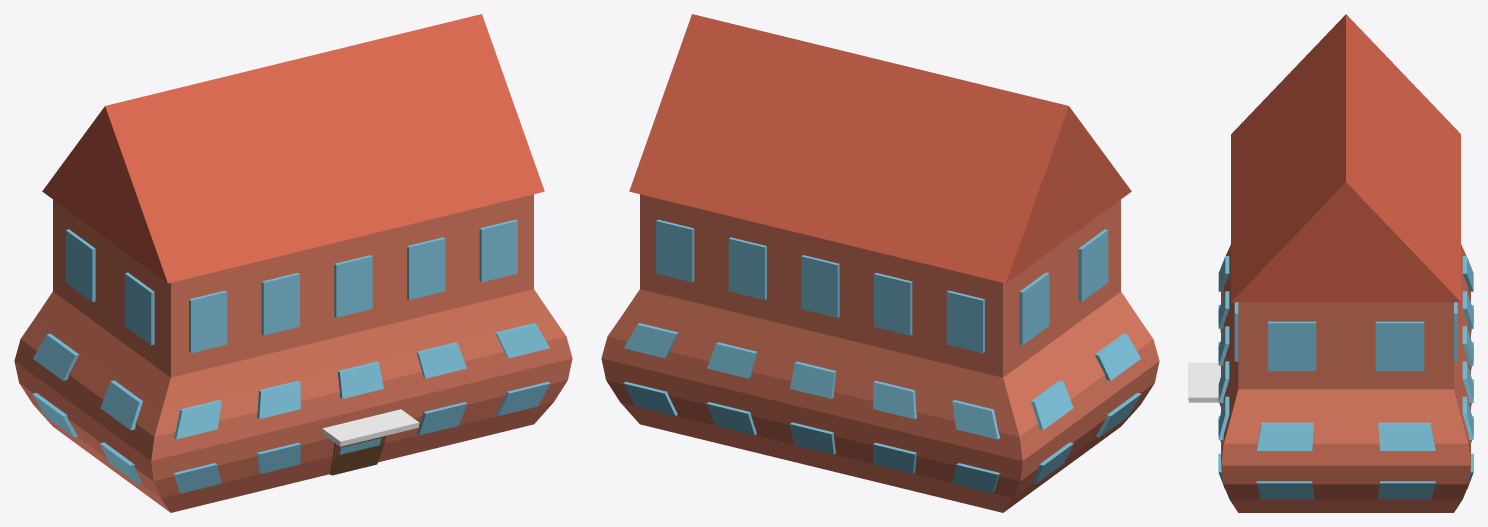
File: apartment_3.glb
3 renders of one model, left to right at view 1: azimuth 30°, elevation 25°; view 2: azimuth 150°, elevation 25°; view 3: azimuth 270°, elevation 25°, orthographic. The views are drawn at different scales.
Visible parts, largest first — view 1: apartment_3_brick, apartment_3_roof_red, apartment_3_window, apartment_3_white, apartment_3_door; view 2: apartment_3_brick, apartment_3_roof_red, apartment_3_window; view 3: apartment_3_roof_red, apartment_3_brick, apartment_3_window, apartment_3_white.
Part boxes in pixels (bbox=[...]): apartment_3_brick: bbox=[14, 194, 572, 512]; apartment_3_roof_red: bbox=[42, 14, 544, 283]; apartment_3_window: bbox=[32, 219, 550, 493]; apartment_3_white: bbox=[322, 409, 419, 446]; apartment_3_door: bbox=[330, 436, 386, 475]; apartment_3_brick: bbox=[601, 194, 1159, 512]; apartment_3_roof_red: bbox=[629, 14, 1131, 283]; apartment_3_window: bbox=[623, 219, 1141, 493]; apartment_3_roof_red: bbox=[1231, 14, 1460, 302]; apartment_3_brick: bbox=[1221, 244, 1470, 512]; apartment_3_window: bbox=[1218, 256, 1473, 499]; apartment_3_white: bbox=[1188, 362, 1220, 402].
Size of the model in its own units: 19.44 by 16 by 12.41.
